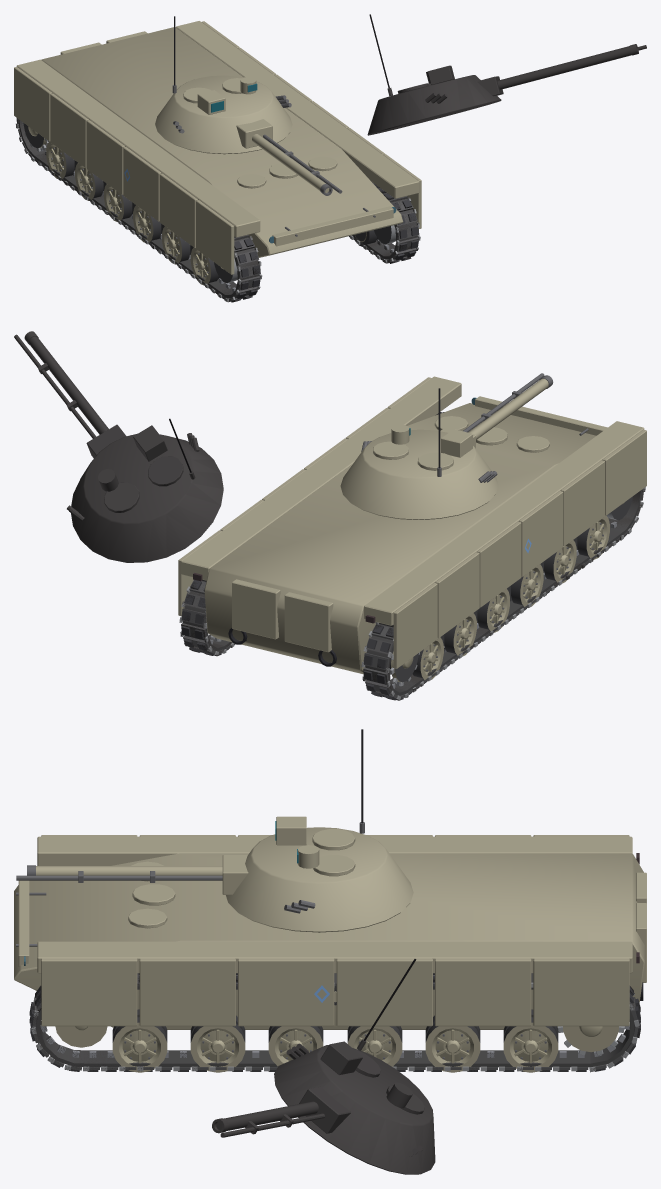
The model's file is ifv__bmp_3.glb.
3 views of the same model, one above another, from view 1: azimuth 30°, elevation 25°; view 2: azimuth 150°, elevation 25°; view 3: azimuth 270°, elevation 25° (orthographic). The views are drawn at different scales.
Visible parts, largest first — view 1: Hull_Mesh, Wreck, Turret_Mesh, Track_L_Mesh, Gun_Mesh, Track_R_Mesh, Wheel_L3_Mesh, Wheel_L2_Mesh, Wheel_L4_Mesh, Wheel_L0_Mesh, Wheel_L1_Mesh, Wheel_L5_Mesh; view 2: Hull_Mesh, Wreck, Turret_Mesh, Track_L_Mesh, Track_R_Mesh, Gun_Mesh, Wheel_L3_Mesh, Wheel_L5_Mesh, Wheel_L4_Mesh, Wheel_L1_Mesh, Wheel_L2_Mesh, Wheel_L0_Mesh (+1 smaller); view 3: Hull_Mesh, Wreck, Turret_Mesh, Track_R_Mesh, Gun_Mesh, Wheel_R5_Mesh, Wheel_R0_Mesh, Wheel_R1_Mesh, Wheel_R4_Mesh, Wheel_R2_Mesh, Wheel_R3_Mesh, Sprocket_R_Mesh (+1 smaller).
Part boxes in pixels (x1,y1,x2,y2): Hull_Mesh: (14,21,421,274); Wreck: (16,14,646,302); Turret_Mesh: (155,16,292,154); Track_L_Mesh: (16,118,262,302); Gun_Mesh: (236,119,342,195); Track_R_Mesh: (349,181,420,263); Wheel_L3_Mesh: (133,205,164,242); Wheel_L2_Mesh: (104,184,135,221); Wheel_L4_Mesh: (162,226,193,264); Wheel_L0_Mesh: (46,141,77,178); Wheel_L1_Mesh: (75,163,106,200); Wheel_L5_Mesh: (190,247,219,285); Hull_Mesh: (178,376,646,674); Wreck: (14,331,645,699); Turret_Mesh: (340,388,498,519); Track_L_Mesh: (361,487,645,700); Track_R_Mesh: (179,412,444,656); Gun_Mesh: (440,373,553,448); Wheel_L3_Mesh: (507,564,543,606); Wheel_L5_Mesh: (573,515,609,559); Wheel_L4_Mesh: (540,540,576,583); Wheel_L1_Mesh: (440,613,476,656); Wheel_L2_Mesh: (474,588,509,632); Wheel_L0_Mesh: (412,637,443,681); Hull_Mesh: (14,835,646,1029); Wreck: (29,959,640,1174); Turret_Mesh: (226,729,413,932); Track_R_Mesh: (30,973,640,1071); Gun_Mesh: (16,855,248,894); Wheel_R5_Mesh: (112,1009,167,1072); Wheel_R0_Mesh: (503,1009,558,1072); Wheel_R1_Mesh: (425,1015,480,1072); Wheel_R4_Mesh: (190,1015,245,1072); Wheel_R2_Mesh: (347,1026,402,1066); Wheel_R3_Mesh: (268,1026,323,1066); Sprocket_R_Mesh: (557,1026,624,1055).
Size of what is drawn, in the model's own units: 8.42 by 3.23 by 7.06.
